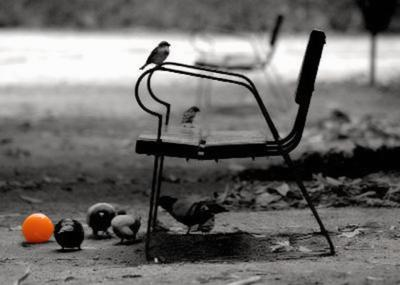bird: (155, 194, 232, 235), (84, 202, 119, 238), (112, 209, 143, 246), (54, 218, 87, 252), (139, 40, 172, 71), (181, 104, 204, 130)
cat: (21, 213, 55, 245)
chair: (133, 29, 339, 262)
